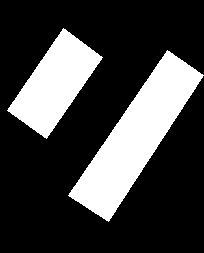parkingspot: (68, 50, 203, 221), (7, 28, 102, 138)
